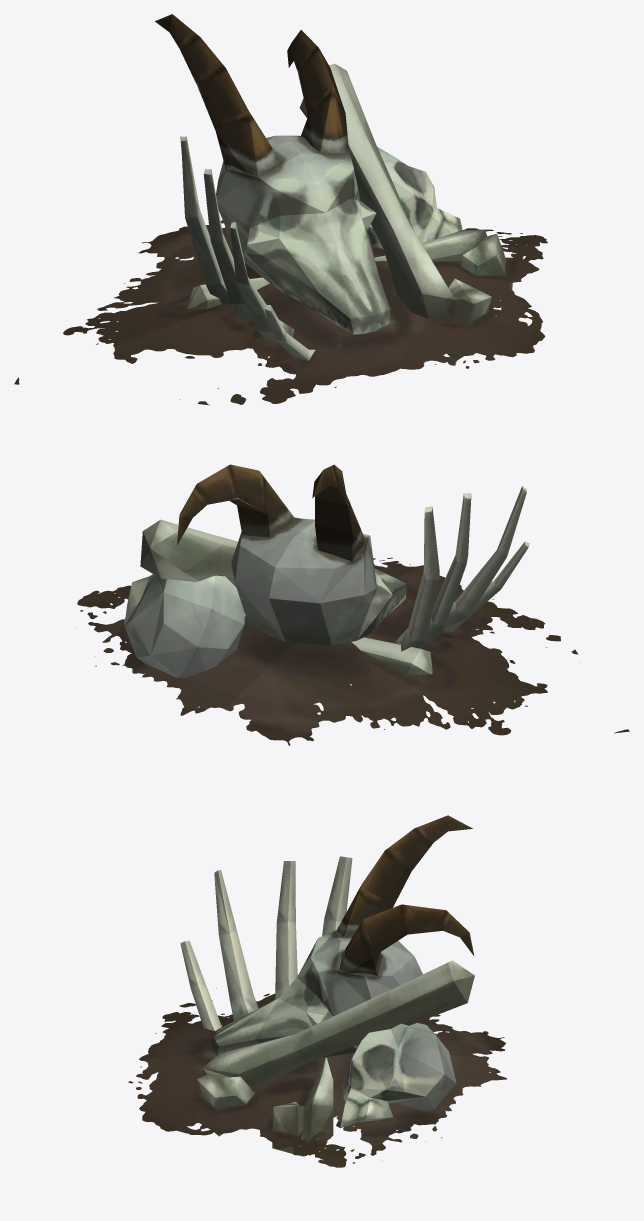
Rendered from lava_animalbones_01.fbx.
3 views of the same model, one above another, from view 1: azimuth 30°, elevation 25°; view 2: azimuth 150°, elevation 25°; view 3: azimuth 270°, elevation 25° (orthographic). The views are drawn at different scales.
Parts seen in each view (by area): view 1: obj0.092; view 2: obj0.092; view 3: obj0.092.
Boxes of the visible parts, <box> form: obj0.092: <box>14,14,547,405</box>; obj0.092: <box>77,464,629,745</box>; obj0.092: <box>128,815,506,1167</box>.
Size of the model in its own units: 2.46 by 1.07 by 2.43.
